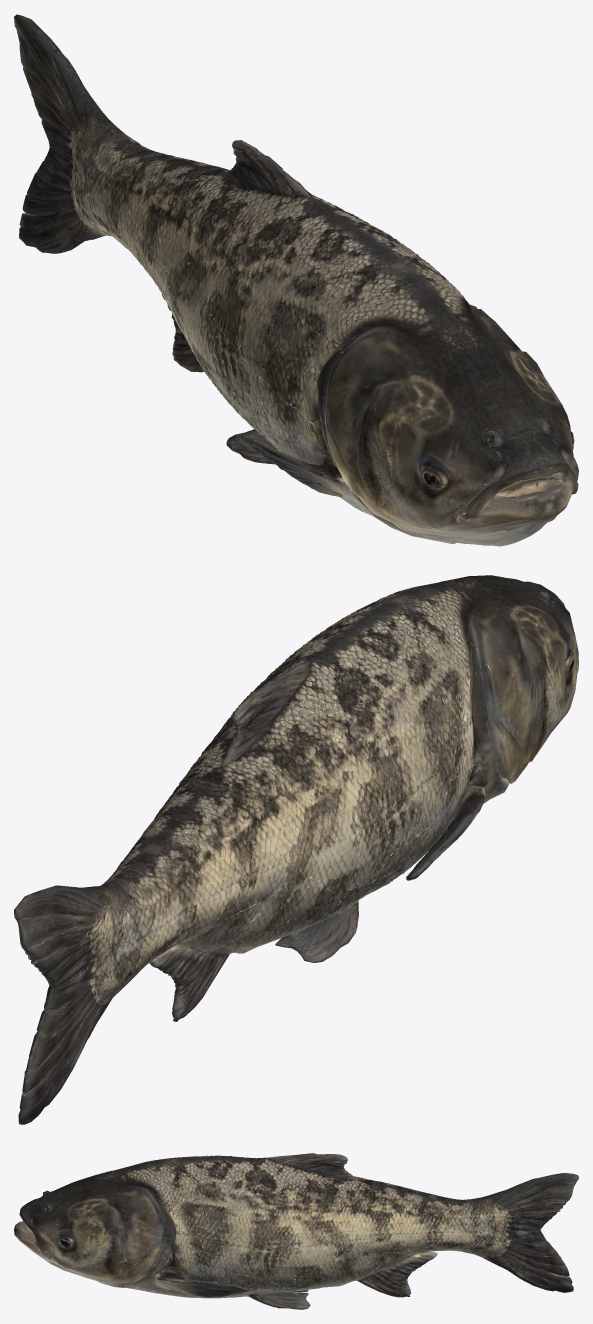
The model's file is tolpyga_pstra.glb.
3 views of the same model, one above another, from view 1: azimuth 30°, elevation 25°; view 2: azimuth 150°, elevation 25°; view 3: azimuth 270°, elevation 25° (orthographic). The views are drawn at different scales.
Parts seen in each view (by area): view 1: Mesh_0; view 2: Mesh_0; view 3: Mesh_0.
Boxes of the visible parts, box(x1,y1,x2,y2) form: Mesh_0: box(14, 14, 578, 546); Mesh_0: box(14, 575, 578, 1124); Mesh_0: box(14, 1153, 578, 1309).
Size of the model in its own units: 0.3905 by 0.5346 by 1.9.
Materials: 1 (1 with a texture image).
